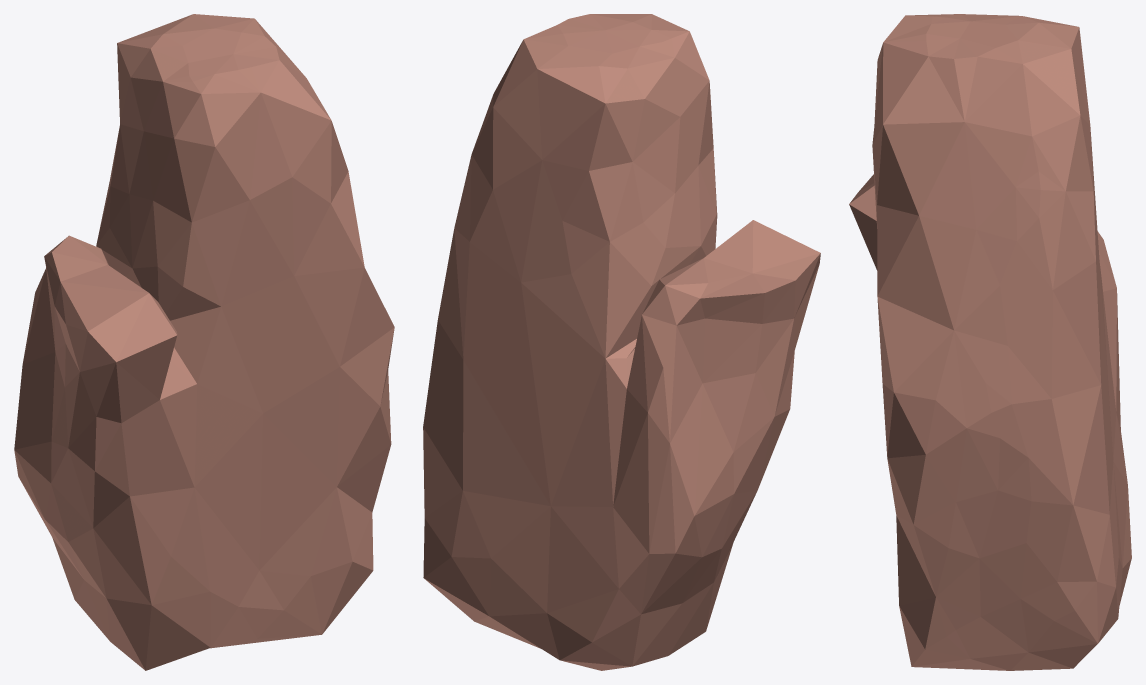
The model's file is boulder_011.fbx.
The picture shows the model from 3 angles, left to right: view 1: azimuth 30°, elevation 25°; view 2: azimuth 150°, elevation 25°; view 3: azimuth 270°, elevation 25°; orthographic projection. The views are drawn at different scales.
Parts seen in each view (by area): view 1: boulder_011; view 2: boulder_011; view 3: boulder_011.
Boxes of the visible parts, x1,y1,x2,y2 form: boulder_011: (14, 14, 394, 670); boulder_011: (423, 14, 820, 670); boulder_011: (849, 14, 1131, 670).
Size of the model in its own units: 951 by 708 by 1713.
